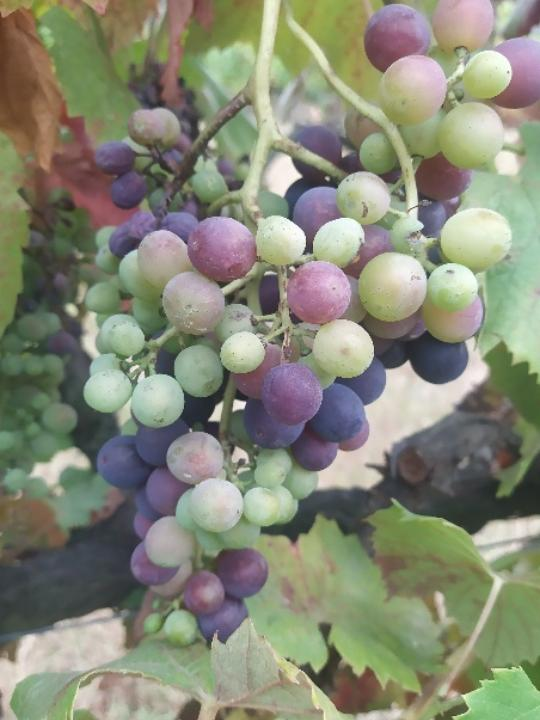grape: (84, 0, 540, 655)
